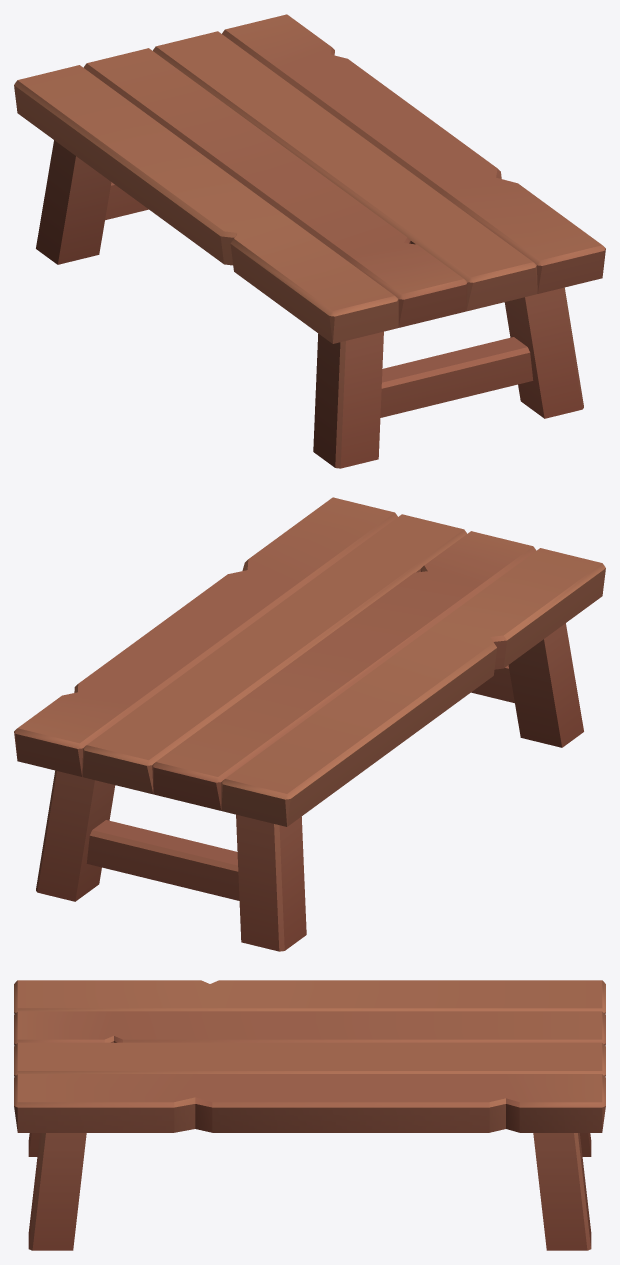
Rendered from sarcophagus.glb.
3 renders of one model, top to bottom at view 1: azimuth 30°, elevation 25°; view 2: azimuth 150°, elevation 25°; view 3: azimuth 270°, elevation 25°, orthographic. The views are drawn at different scales.
Visible parts, largest first — view 1: table_long; view 2: table_long; view 3: table_long.
Part boxes in pixels (bbox=[...]): table_long: bbox=[14, 14, 605, 468]; table_long: bbox=[14, 497, 605, 951]; table_long: bbox=[14, 980, 605, 1250].
Size of the model in its own units: 0.56 by 0.32 by 1.12.
1 material, 1 textured.
